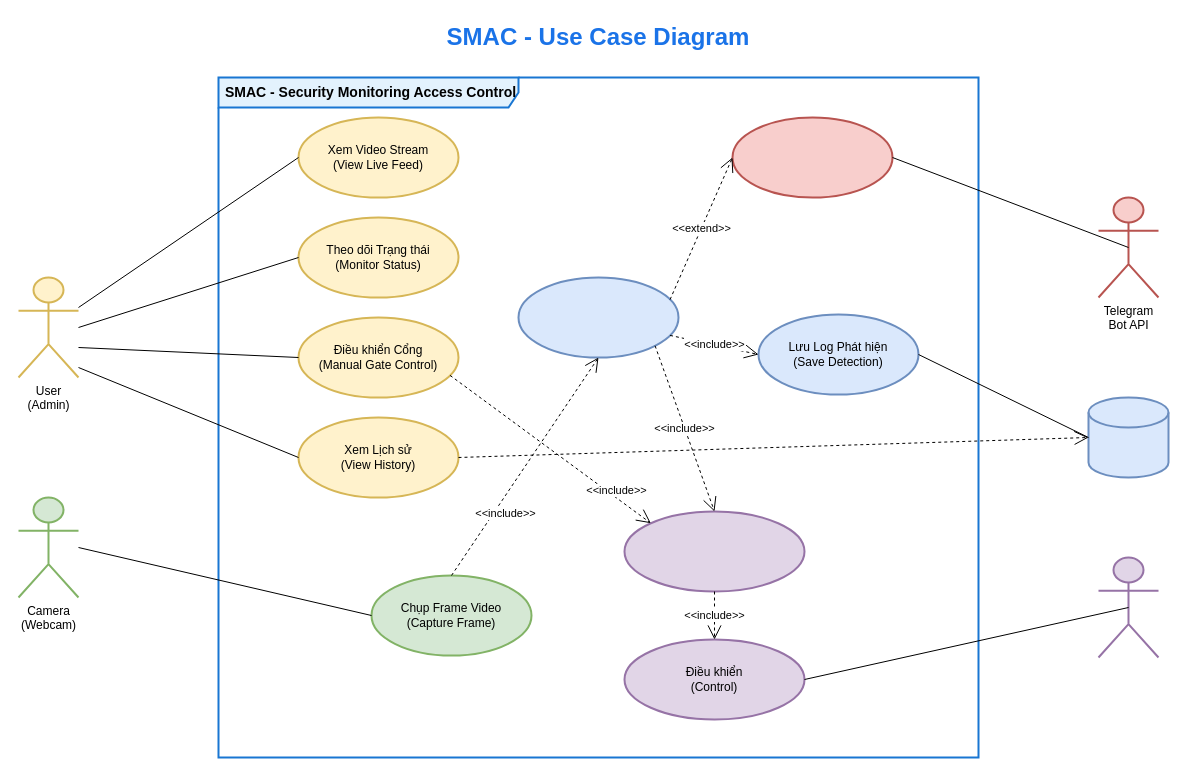
Some shapes in this 1186 by 775 pixel diagram are drawn without their labels. The centre of each missing label's shape, as x and y in pixels:
"Cập nhật Trạng thái Cổng (Update Gate State)" belongs at (714,551).
"Gate" belongs at (1128,607).
"Gửi Thông báo (Send Alert)" belongs at (812,157).
"Phát hiện Người (Detect Person) YOLO11" belongs at (598,317).
"SQLite Database" belongs at (1128,437).
